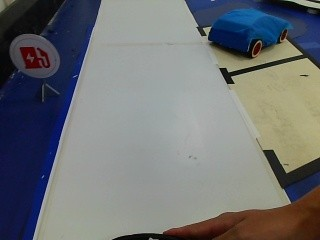battery: (8, 34, 56, 79)
car: (211, 6, 288, 59)
